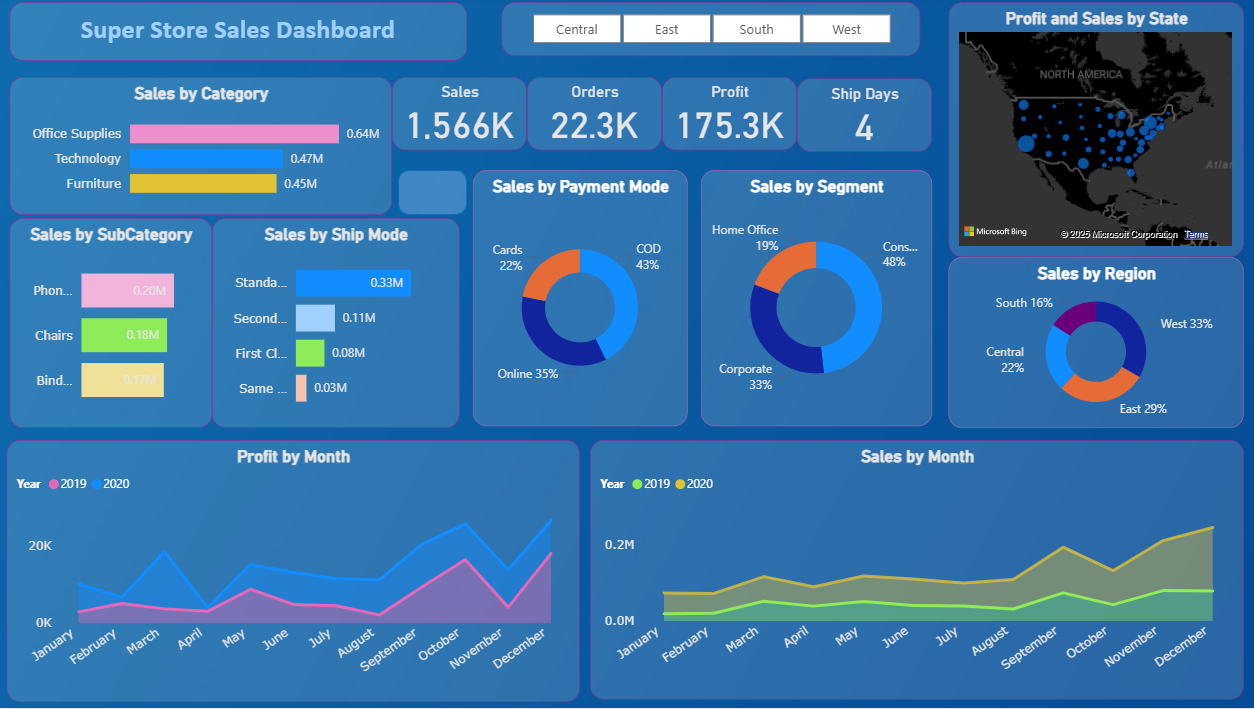

What the dashboard file says about the page in this screenshot:
{"tool":"powerbi","page":{"name":"Page 1","canvas":[1280,720],"ordinal":0},"visuals":[{"type":"clusteredBarChart","title":"Sales by Category","fields":{"Category":["SuperStore_Sales_Dataset.Category"],"Y":["Sum(SuperStore_Sales_Dataset.Sales)"]},"box":[13.6,81.8,386.1,139.3],"z":0},{"type":"clusteredBarChart","title":"Sales by SubCategory","fields":{"Y":["Sum(SuperStore_Sales_Dataset.Sales)"],"Category":["SuperStore_Sales_Dataset.Sub-Category"]},"box":[13.6,224.1,204.4,212],"z":1000},{"type":"clusteredBarChart","title":"Sales by Ship Mode","fields":{"Y":["Sum(SuperStore_Sales_Dataset.Sales)"],"Category":["SuperStore_Sales_Dataset.Ship Mode"]},"box":[218,224.1,249.8,212],"z":2000},{"type":"stackedAreaChart","title":"Sales by  Month","fields":{"Category":["SuperStore_Sales_Dataset.Order Date.Variation.Date Hierarchy.Month","SuperStore_Sales_Dataset.Order Date.Variation.Date Hierarchy.Day"],"Y":["Sum(SuperStore_Sales_Dataset.Sales)"],"Series":["SuperStore_Sales_Dataset.Order Date.Variation.Date Hierarchy.Year"]},"box":[599.6,448.2,660.2,262],"z":3000},{"type":"stackedAreaChart","title":"Profit by  Month","fields":{"Category":["SuperStore_Sales_Dataset.Order Date.Variation.Date Hierarchy.Month","SuperStore_Sales_Dataset.Order Date.Variation.Date Hierarchy.Day"],"Series":["SuperStore_Sales_Dataset.Order Date.Variation.Date Hierarchy.Year"],"Y":["Sum(SuperStore_Sales_Dataset.Profit)"]},"box":[10.6,448.2,578.4,265],"z":4000},{"type":"map","title":"Profit and Sales by State","fields":{"Category":["SuperStore_Sales_Dataset.State"],"Size":["Sum(SuperStore_Sales_Dataset.Sales)"]},"box":[961.5,6.1,298.3,257.4],"z":4001},{"type":"donutChart","title":"Sales by Segment","fields":{"Category":["SuperStore_Sales_Dataset.Segment"],"Y":["Sum(SuperStore_Sales_Dataset.Sales)"]},"box":[711.7,175.6,233.2,258.9],"z":4002},{"type":"donutChart","title":"Sales by Payment Mode","fields":{"Y":["Sum(SuperStore_Sales_Dataset.Sales)"],"Category":["SuperStore_Sales_Dataset.Payment Mode"]},"box":[481.5,175.6,216.5,258.9],"z":4003},{"type":"slicer","fields":{"Values":["SuperStore_Sales_Dataset.Region"]},"box":[510.3,6.1,422.5,54.5],"z":4004},{"type":"textbox","box":[13.6,6.1,461.8,59.1],"z":4005},{"type":"card","title":"Sales","fields":{"Values":["Sum(SuperStore_Sales_Dataset.Sales)"]},"box":[399.8,81.8,136.3,74.2],"z":4006},{"type":"card","title":"Orders","fields":{"Values":["Sum(SuperStore_Sales_Dataset.Quantity)"]},"box":[536,81.8,136.3,74.2],"z":4007},{"type":"card","title":"Profit","fields":{"Values":["Sum(SuperStore_Sales_Dataset.Profit)"]},"box":[672.3,81.8,136.3,74.2],"z":4008},{"type":"card","title":"Ship Days","fields":{"Values":["Avg(SuperStore_Sales_Dataset.AvgDelivery)"]},"box":[808.6,83.3,136.3,74.2],"z":4009},{"type":"donutChart","title":"Sales by Region","fields":{"Y":["Sum(SuperStore_Sales_Dataset.Sales)"],"Category":["SuperStore_Sales_Dataset.Region"]},"box":[961.5,263.5,298.3,172.6],"z":4010},{"type":"shape","box":[405.8,175.6,69.7,45.4],"z":4011}]}

Visuals, with their boxes in screenshot pixels (x1, y1, x2, y2), scaled from the page's 1280x720 canvas onto the 1254x709 screenshot:
"Sales by Category" clusteredBarChart: [left=13, top=81, right=392, bottom=218]
"Sales by SubCategory" clusteredBarChart: [left=13, top=221, right=214, bottom=429]
"Sales by Ship Mode" clusteredBarChart: [left=214, top=221, right=458, bottom=429]
"Sales by  Month" stackedAreaChart: [left=587, top=441, right=1234, bottom=699]
"Profit by  Month" stackedAreaChart: [left=10, top=441, right=577, bottom=702]
"Profit and Sales by State" map: [left=942, top=6, right=1234, bottom=259]
"Sales by Segment" donutChart: [left=697, top=173, right=926, bottom=428]
"Sales by Payment Mode" donutChart: [left=472, top=173, right=684, bottom=428]
slicer - SuperStore_Sales_Dataset.Region: [left=500, top=6, right=914, bottom=60]
textbox: [left=13, top=6, right=466, bottom=64]
"Sales" card: [left=392, top=81, right=525, bottom=154]
"Orders" card: [left=525, top=81, right=659, bottom=154]
"Profit" card: [left=659, top=81, right=792, bottom=154]
"Ship Days" card: [left=792, top=82, right=926, bottom=155]
"Sales by Region" donutChart: [left=942, top=259, right=1234, bottom=429]
shape: [left=398, top=173, right=466, bottom=218]
